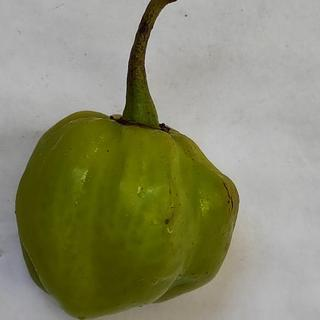Fly-bites: (160, 216, 174, 229)
